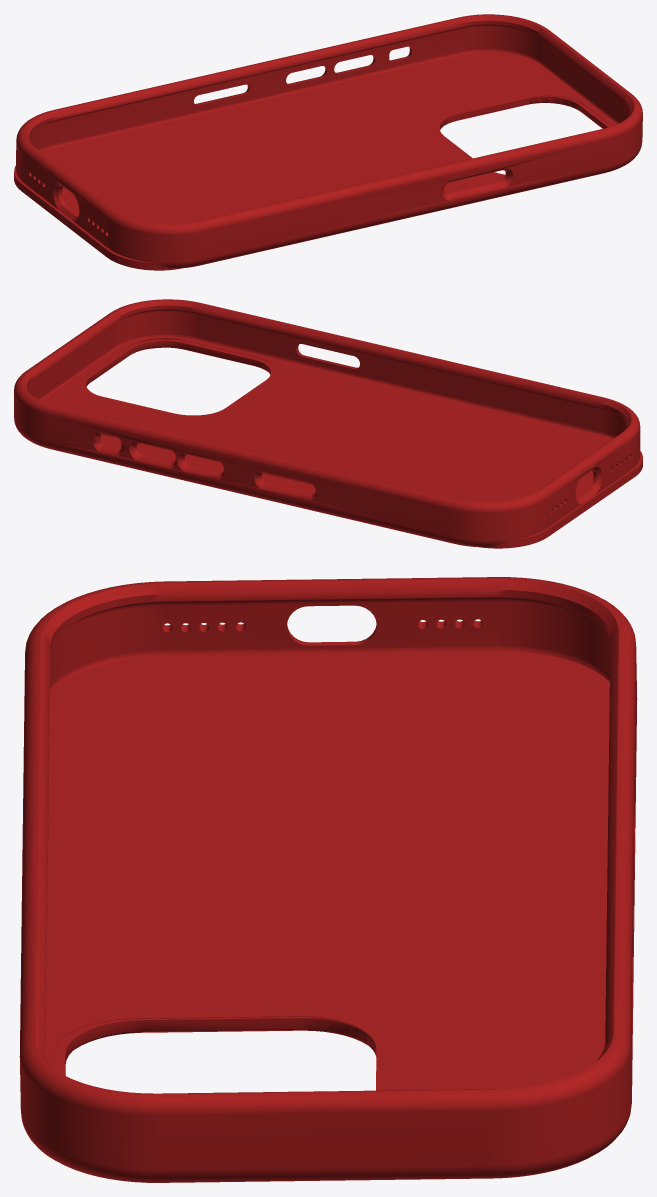
The model's file is phonecase1.glb.
The picture shows the model from 3 angles, top to bottom: view 1: azimuth 30°, elevation 25°; view 2: azimuth 150°, elevation 25°; view 3: azimuth 270°, elevation 25°; orthographic projection. The views are drawn at different scales.
Visible parts, largest first — view 1: Object_2; view 2: Object_2; view 3: Object_2.
Part boxes in pixels (x1,y1,x2,y2): Object_2: [14, 14, 642, 270]; Object_2: [14, 299, 642, 548]; Object_2: [19, 577, 637, 1182].
Bounding box in the file's own units: 153 × 15.29 × 77.37.
